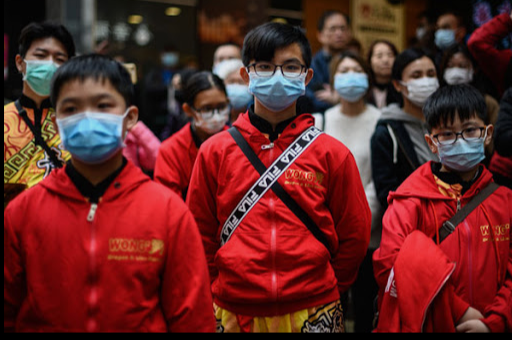with_mask: (54, 91, 126, 159), (248, 55, 307, 110), (430, 117, 487, 169), (24, 46, 69, 97), (402, 66, 438, 106), (192, 99, 229, 133), (334, 65, 369, 99), (224, 73, 254, 110), (211, 51, 245, 79), (444, 61, 472, 88), (431, 21, 458, 46)
without_mask: (371, 49, 395, 74), (324, 23, 348, 47)
